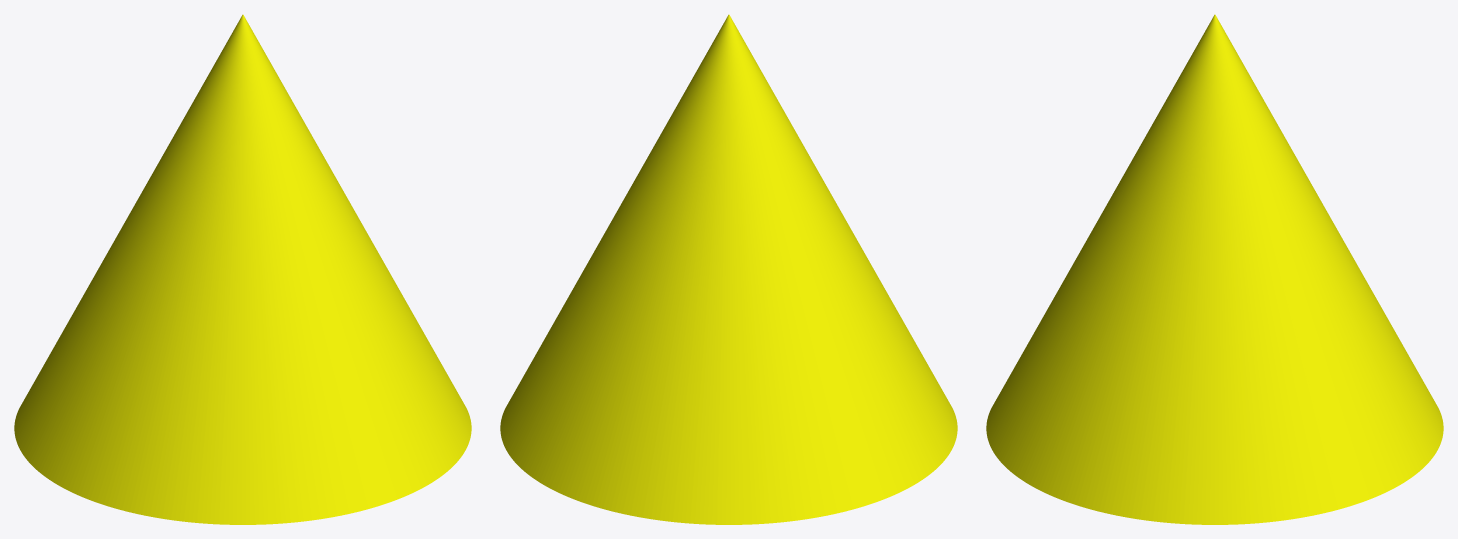
The picture shows the model from 3 angles, left to right: view 1: azimuth 30°, elevation 25°; view 2: azimuth 150°, elevation 25°; view 3: azimuth 270°, elevation 25°; orthographic projection.
Parts seen in each view (by area): view 1: Cone; view 2: Cone; view 3: Cone.
Boxes of the visible parts, x1,y1,x2,y2 form: Cone: (14,14,471,524); Cone: (500,14,957,524); Cone: (986,14,1443,524).
Size of the model in its own units: 2 by 2 by 2.
